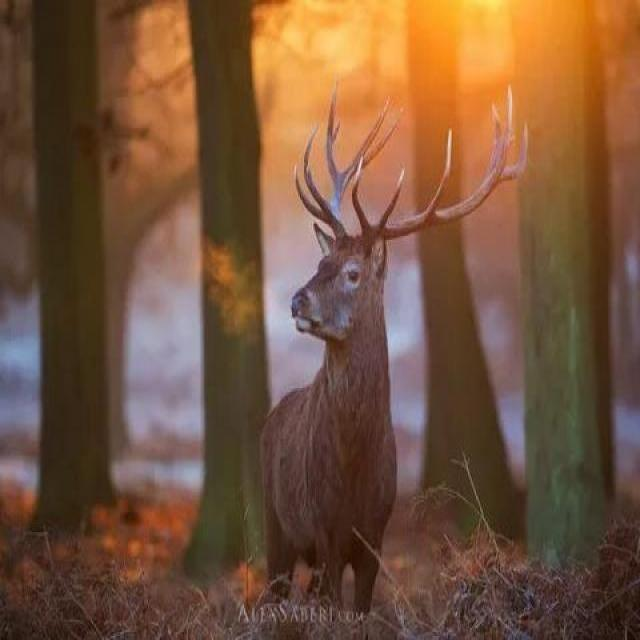deer: (183, 72, 503, 577)
